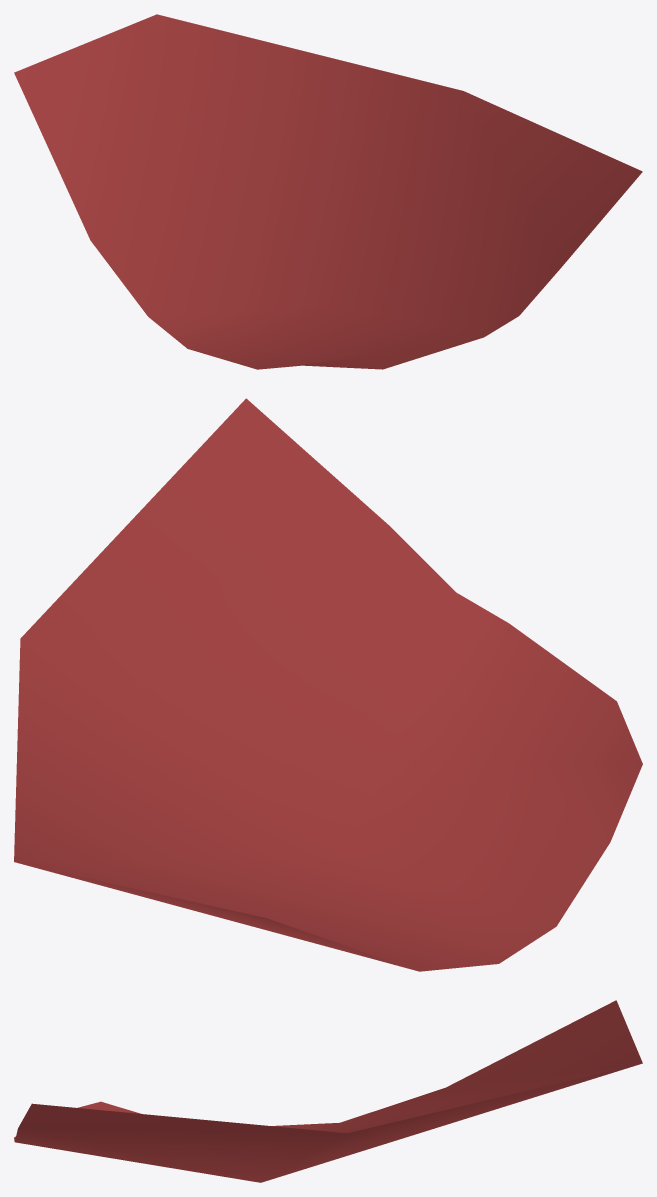
File: lateral-head-of-flexor-hallucis-brevis-el.glb
The picture shows the model from 3 angles, top to bottom: view 1: azimuth 30°, elevation 25°; view 2: azimuth 150°, elevation 25°; view 3: azimuth 270°, elevation 25°; orthographic projection. The views are drawn at different scales.
Visible parts, largest first — view 1: Lateral head of flexor hallucis brevis.el; view 2: Lateral head of flexor hallucis brevis.el; view 3: Lateral head of flexor hallucis brevis.el.
Part boxes in pixels (x1,y1,x2,y2): Lateral head of flexor hallucis brevis.el: [14, 14, 642, 369]; Lateral head of flexor hallucis brevis.el: [14, 398, 642, 971]; Lateral head of flexor hallucis brevis.el: [14, 1000, 642, 1182].
Size of the model in its own units: 0.00435 by 0.00231 by 0.00745.
